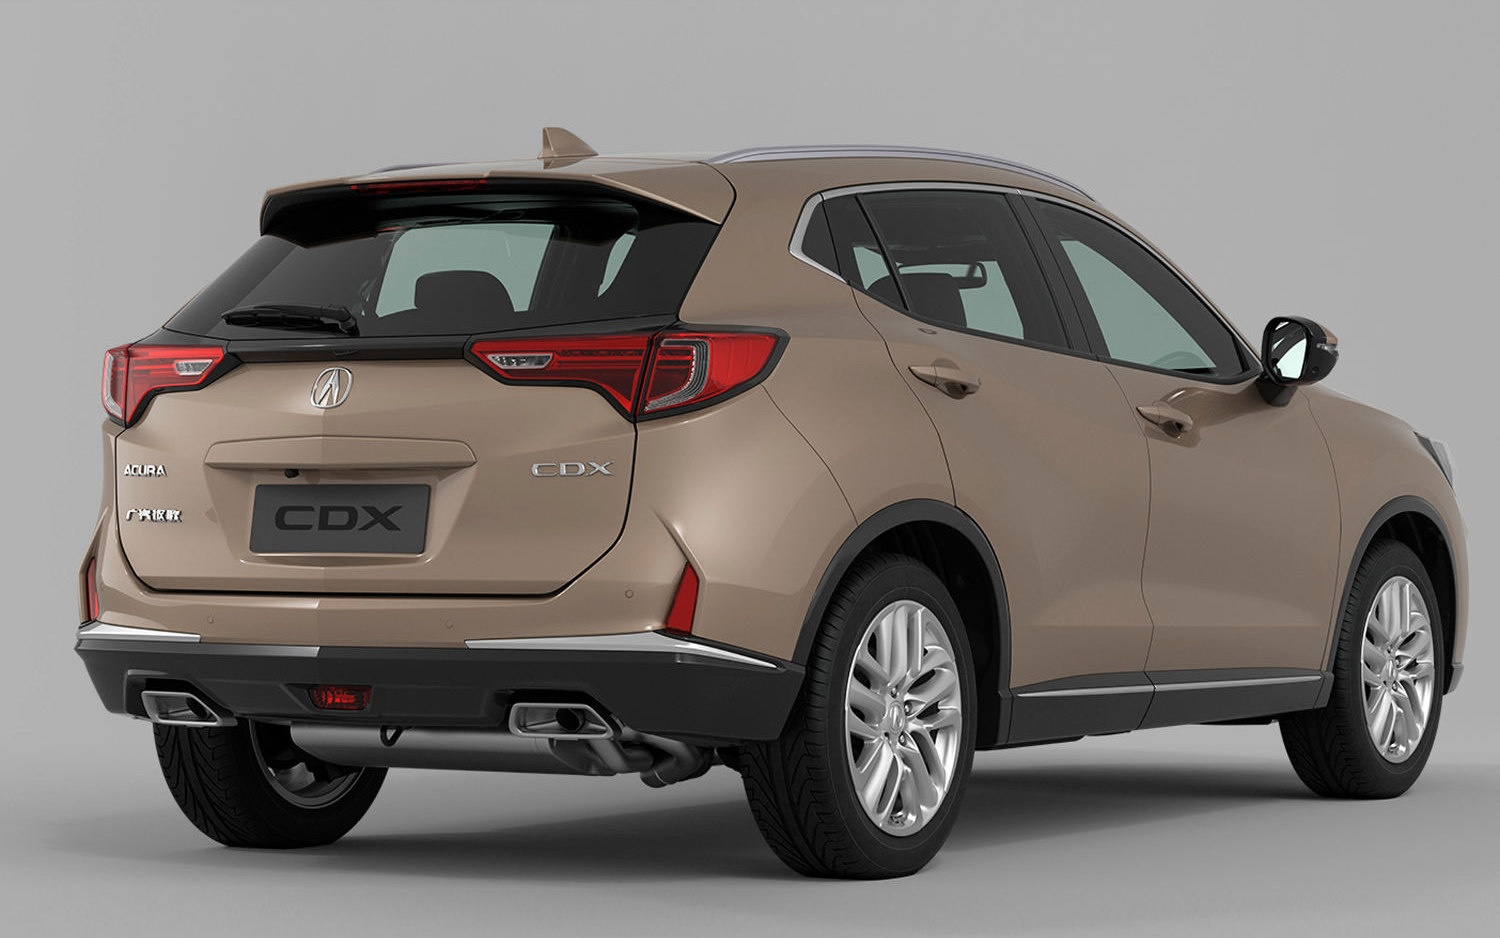SUV: (91, 119, 1466, 867)
